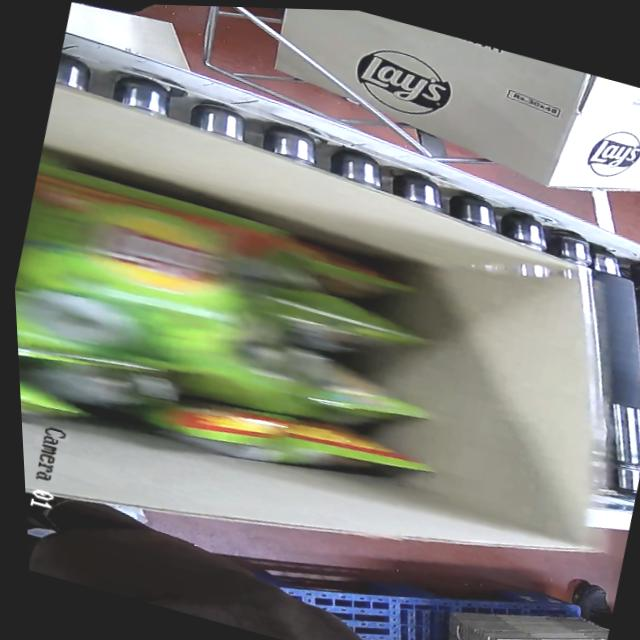YOGURT_HERB: (7, 133, 470, 523)
